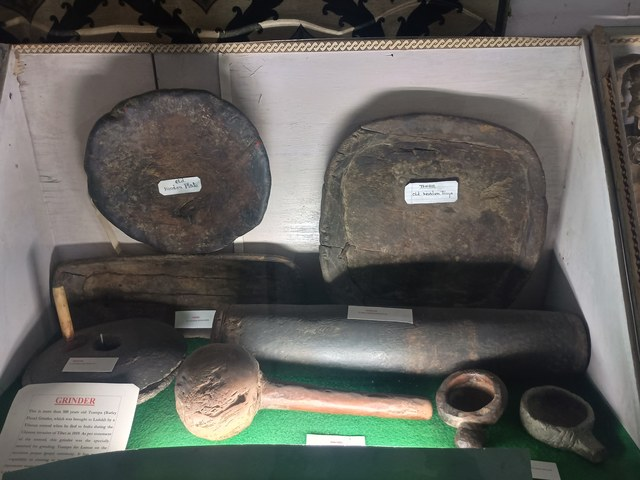Bergner Cooking Spoon: (32, 24, 608, 456)
